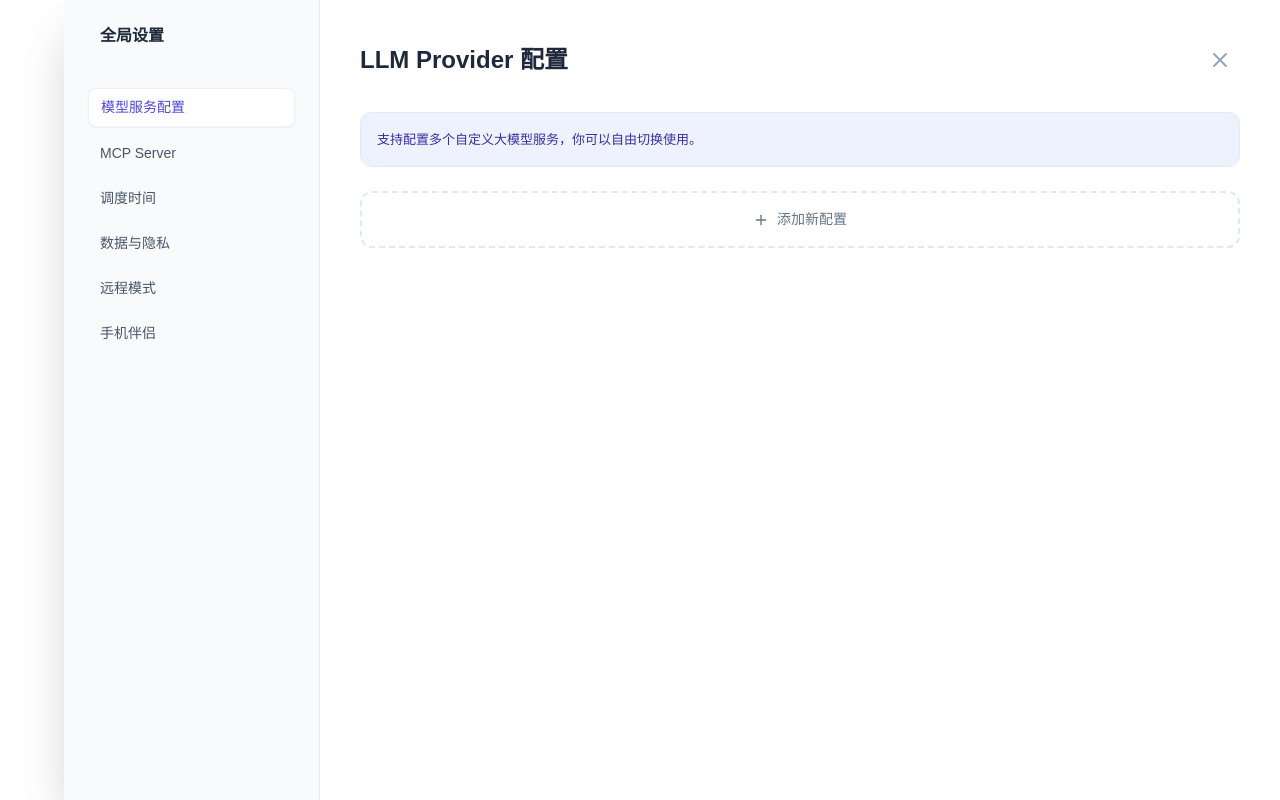
Test: 远程桌面 UI 门控（Story 16.3） › GlobalSettingsModal 门控点 › 本地桌面：远程模式 tab 渲染 local 态（配置+切换）——既有门控零回归
The width and height of the screenshot is (1280, 800).
Click the button "远程模式": (192, 288) [88,270,295,307]
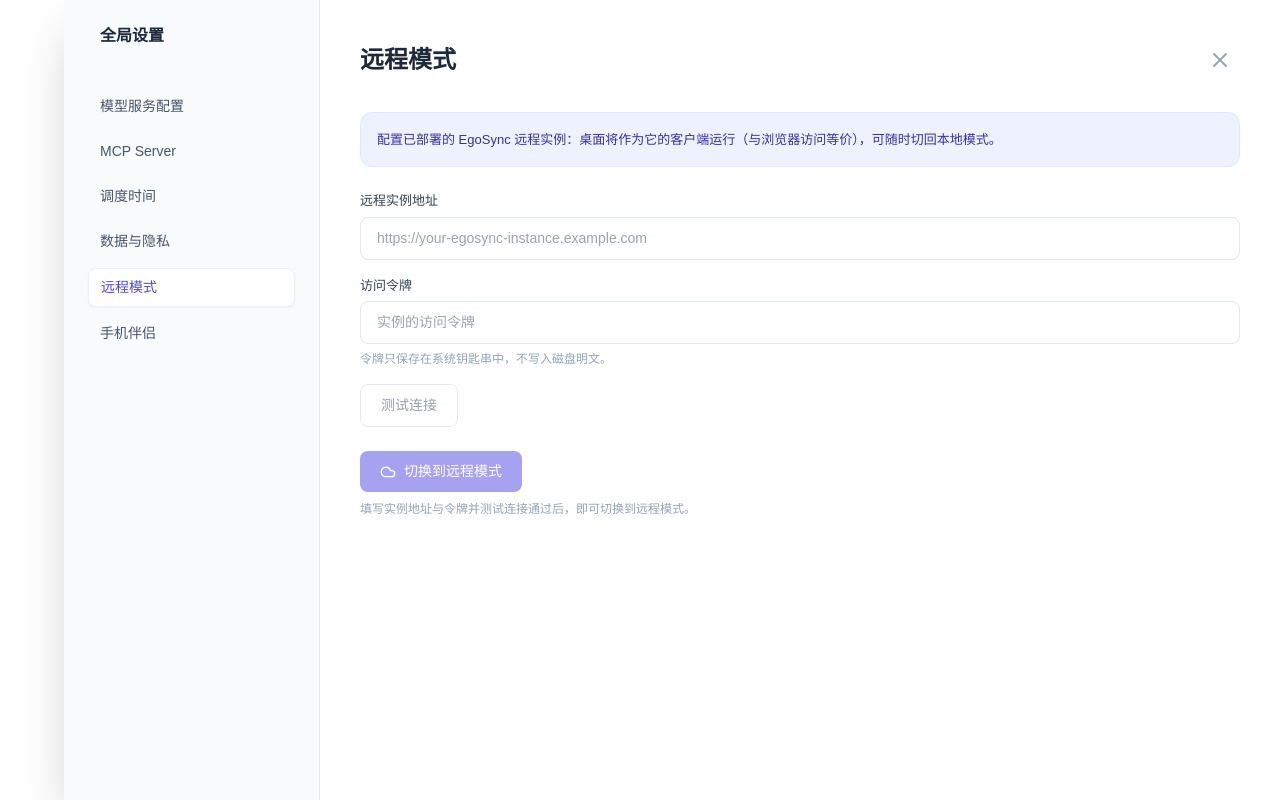
Expected: the button "手机伴侣" is shown, [88,315,295,352]
Click the button "数据与隐私": (192, 242) [88,223,295,260]
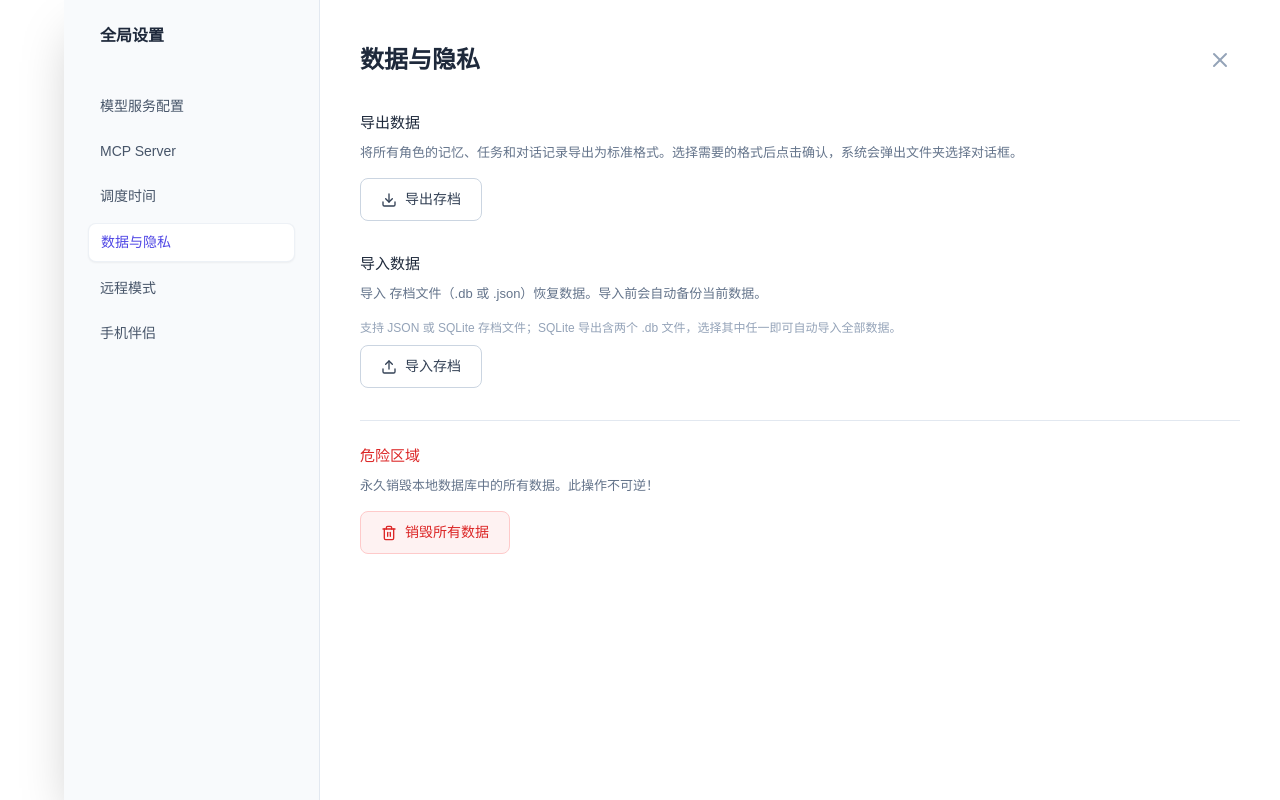
Expected: the button "导出存档" is shown, [360,178,482,221]
Expected: the button "导入存档" is shown, [360,345,482,388]
